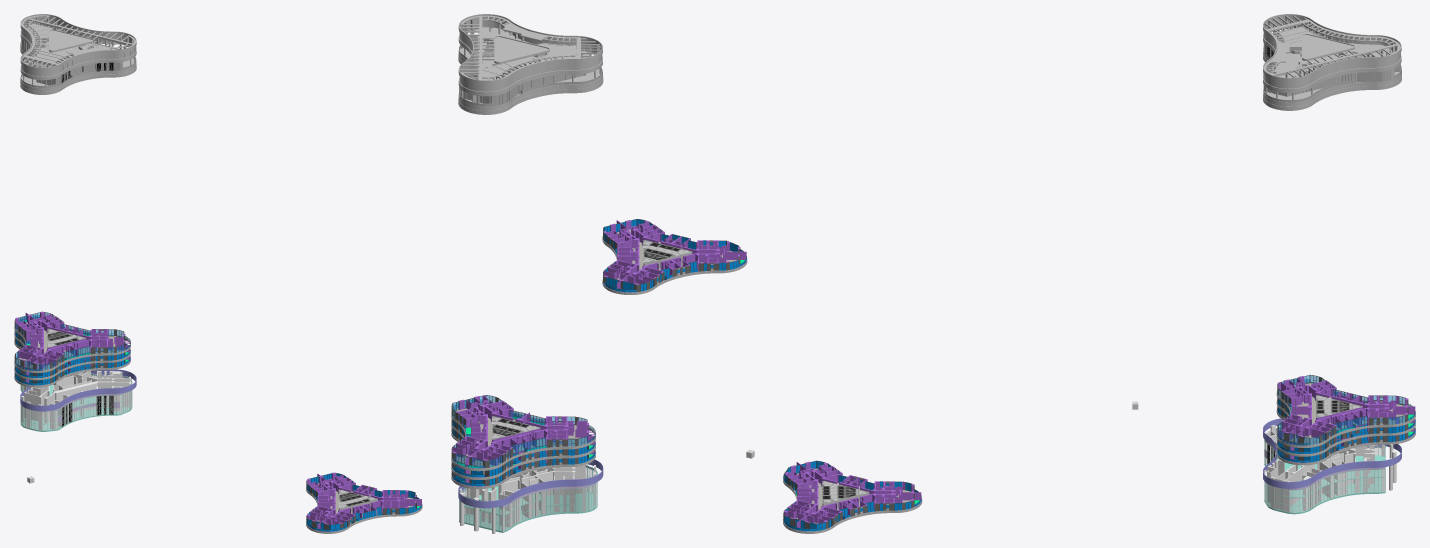
File: boxes.fbx
3 views of the same model, side by side, from view 1: azimuth 30°, elevation 25°; view 2: azimuth 150°, elevation 25°; view 3: azimuth 270°, elevation 25° (orthographic). The views are drawn at different scales.
Parts seen in each view (by area): view 1: wall_roof, Wall, Glass, panel_roof, Windows, Decoration, Floor, APT_21-43_Int_5P_001, glass_roof, APT_21-43_Int_5P, hall_5-7, hall_21-43 (+5 smaller); view 2: wall_roof, Wall, Glass, panel_roof, Floor, Windows, Decoration, glass_roof, APT_21-43_Int_5R_001, floor_roof, APT_21-43_Int_5P_001, APT_5-7_Int_4Rw (+23 smaller); view 3: wall_roof, Wall, Glass, panel_roof, Decoration, Windows, Floor, APT_21-43_Int_5P, glass_roof, APT_21-43_Int_5R, APT_5-7_Int_4Re_001, APT_5-7_Int_4Rw_001 (+3 smaller).
Boxes of the visible parts, x1,y1,x2,y2 form: wall_roof: [20, 14, 136, 94]; Wall: [21, 371, 131, 430]; Glass: [20, 375, 132, 430]; panel_roof: [20, 17, 136, 91]; Windows: [20, 372, 132, 430]; Decoration: [20, 369, 136, 411]; Floor: [20, 384, 132, 431]; APT_21-43_Int_5P_001: [14, 348, 57, 372]; glass_roof: [20, 28, 136, 87]; APT_21-43_Int_5P: [99, 329, 130, 355]; hall_5-7: [335, 489, 377, 513]; hall_21-43: [44, 328, 86, 352]; wall_roof: [458, 14, 603, 114]; Wall: [459, 465, 595, 533]; Glass: [459, 468, 597, 531]; panel_roof: [458, 18, 602, 110]; Floor: [459, 486, 597, 532]; Windows: [459, 464, 597, 531]; Decoration: [458, 459, 603, 508]; glass_roof: [459, 45, 602, 106]; APT_21-43_Int_5R_001: [465, 438, 521, 471]; floor_roof: [459, 27, 602, 106]; APT_21-43_Int_5P_001: [556, 416, 595, 449]; APT_5-7_Int_4Rw: [616, 266, 666, 294]; wall_roof: [1263, 14, 1401, 110]; Wall: [1264, 425, 1396, 511]; Glass: [1264, 431, 1385, 512]; panel_roof: [1263, 18, 1401, 106]; Decoration: [1263, 418, 1401, 488]; Windows: [1264, 427, 1385, 512]; Floor: [1264, 455, 1385, 514]; APT_21-43_Int_5P: [1276, 421, 1332, 447]; glass_roof: [1263, 43, 1401, 102]; APT_21-43_Int_5R: [1351, 406, 1415, 428]; APT_5-7_Int_4Re_001: [796, 506, 844, 533]; APT_5-7_Int_4Rw_001: [875, 492, 922, 513].
Size of the model in its own units: 11960 by 16410 by 21554.
